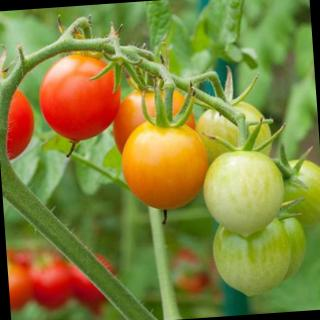Tomat: (118, 112, 215, 215), (36, 50, 126, 159), (199, 143, 290, 244)
